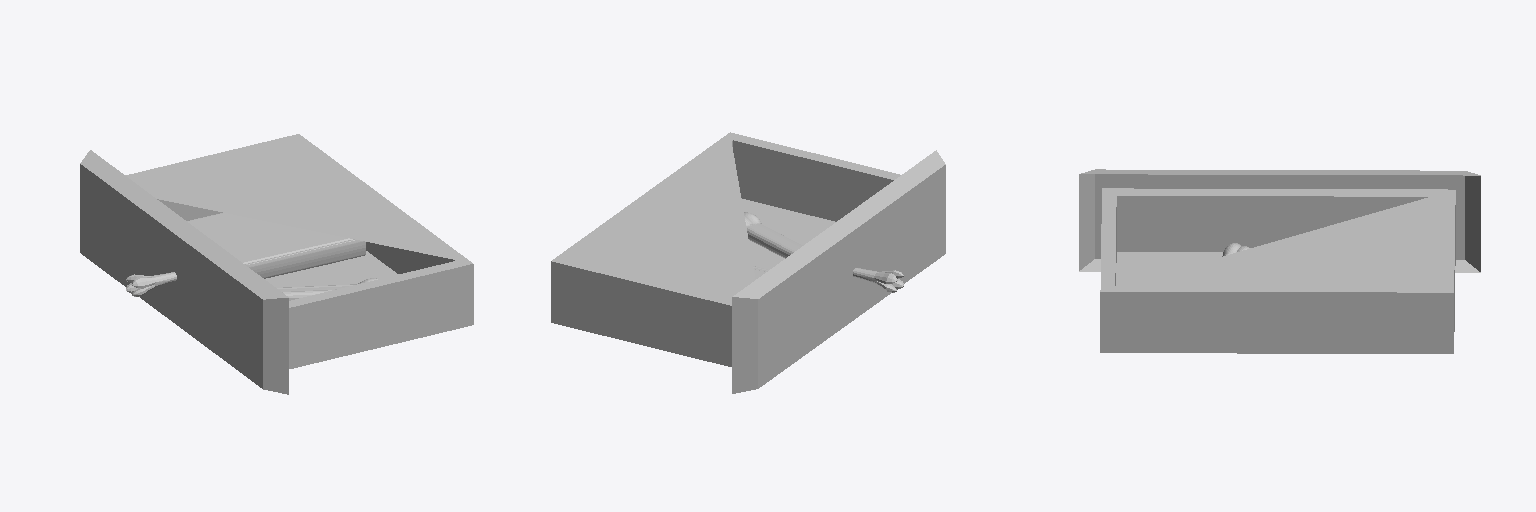
The model's file is Mesita_Puerta.obj.
3 renders of one model, left to right at view 1: azimuth 30°, elevation 25°; view 2: azimuth 150°, elevation 25°; view 3: azimuth 270°, elevation 25°, orthographic.
Visible parts, largest first — view 1: pasted__polySurface1168; view 2: pasted__polySurface1168; view 3: pasted__polySurface1168.
Part boxes in pixels (x1,y1,x2,y2): pasted__polySurface1168: (80, 134, 473, 394); pasted__polySurface1168: (551, 132, 945, 393); pasted__polySurface1168: (1079, 169, 1480, 353).
Size of the model in its own units: 1.1 by 0.394 by 1.48.